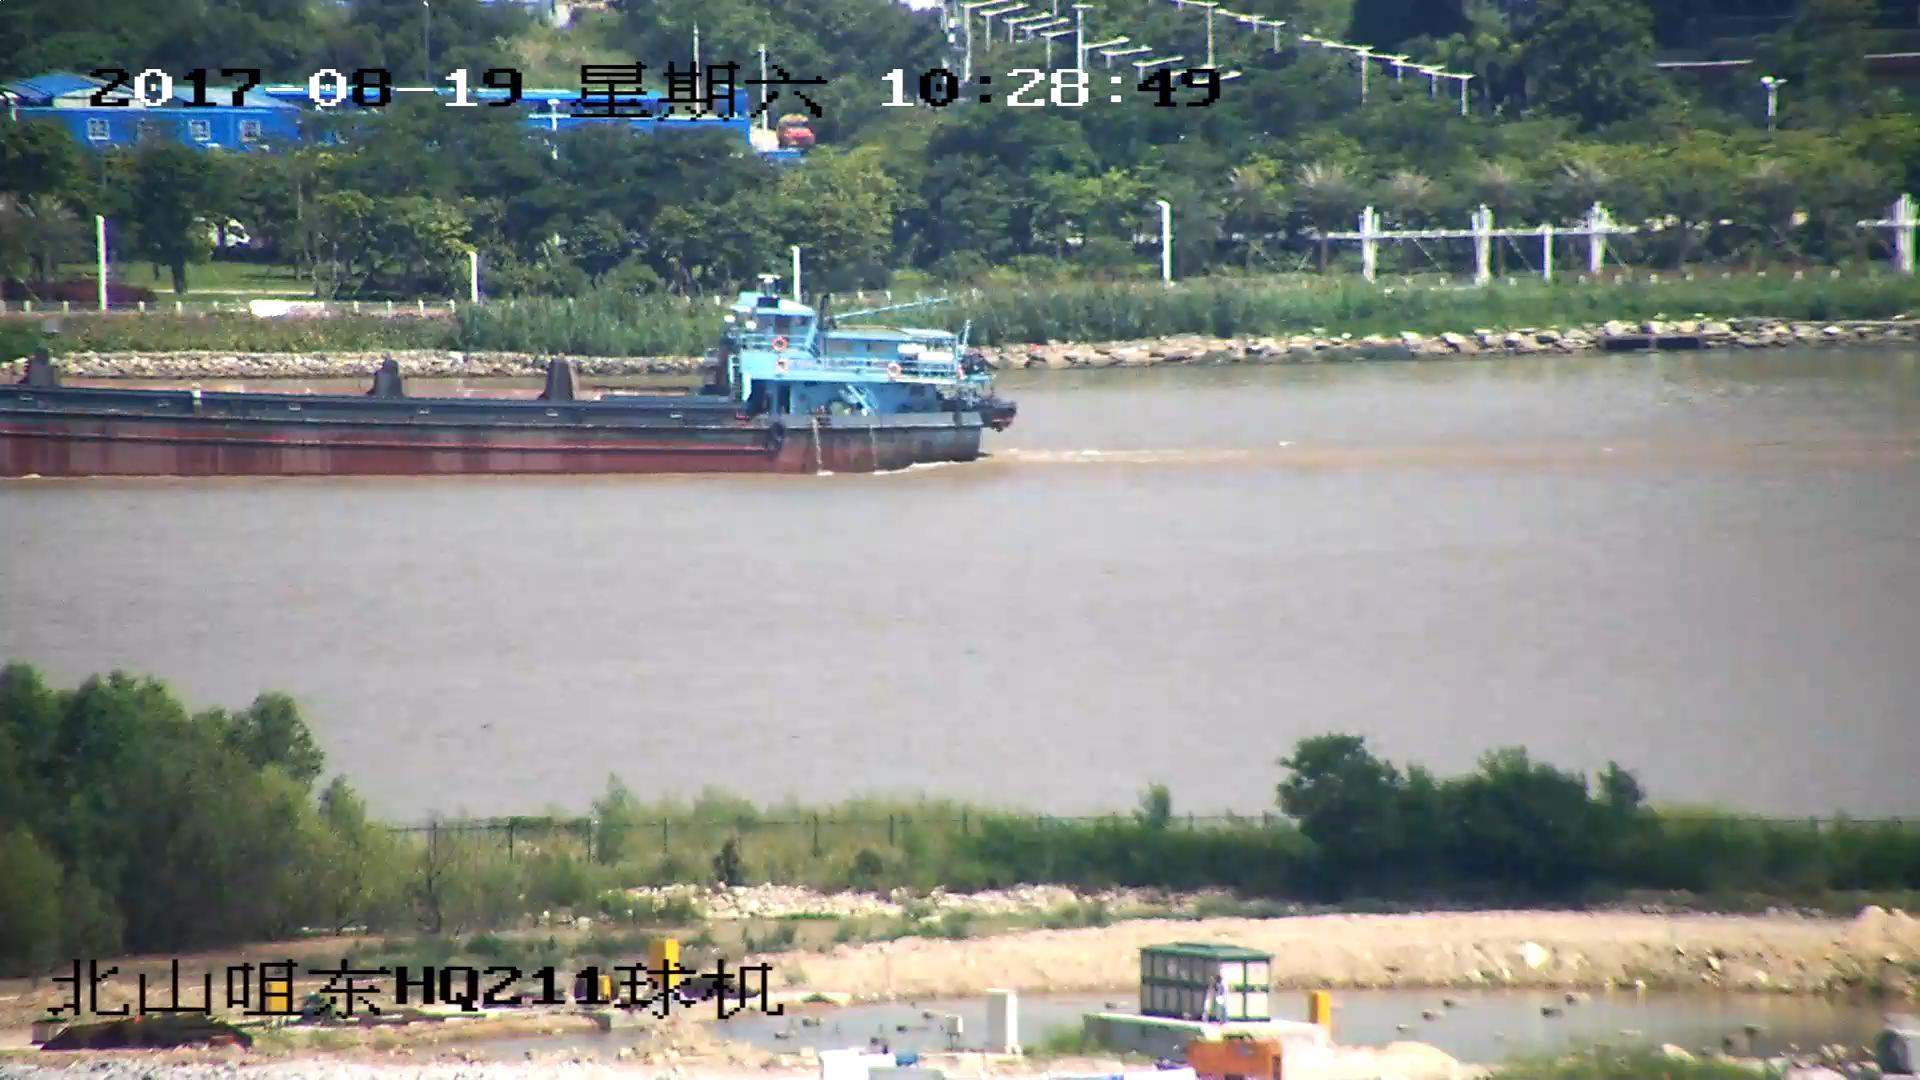Ship: (3, 276, 1017, 477)
